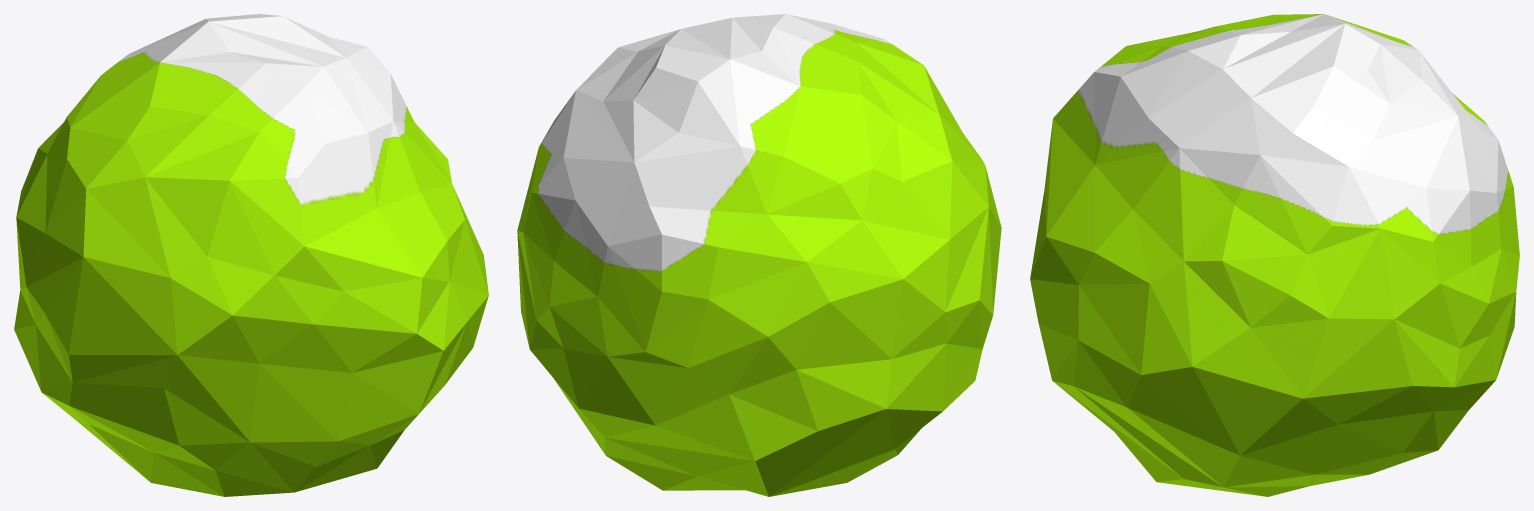
File: Cloud_Particle_Asset_1.fbx
3 renders of one model, left to right at view 1: azimuth 30°, elevation 25°; view 2: azimuth 150°, elevation 25°; view 3: azimuth 270°, elevation 25°, orthographic. The views are drawn at different scales.
Visible parts, largest first — view 1: Cloud_Particle; view 2: Cloud_Particle; view 3: Cloud_Particle.
Boxes of the visible parts, left/top/right/bottom form: Cloud_Particle: left=14, top=14, right=488, bottom=496; Cloud_Particle: left=517, top=14, right=1001, bottom=496; Cloud_Particle: left=1030, top=14, right=1519, bottom=496.
Bounding box in the file's own units: 58.39 × 56.23 × 57.05.
